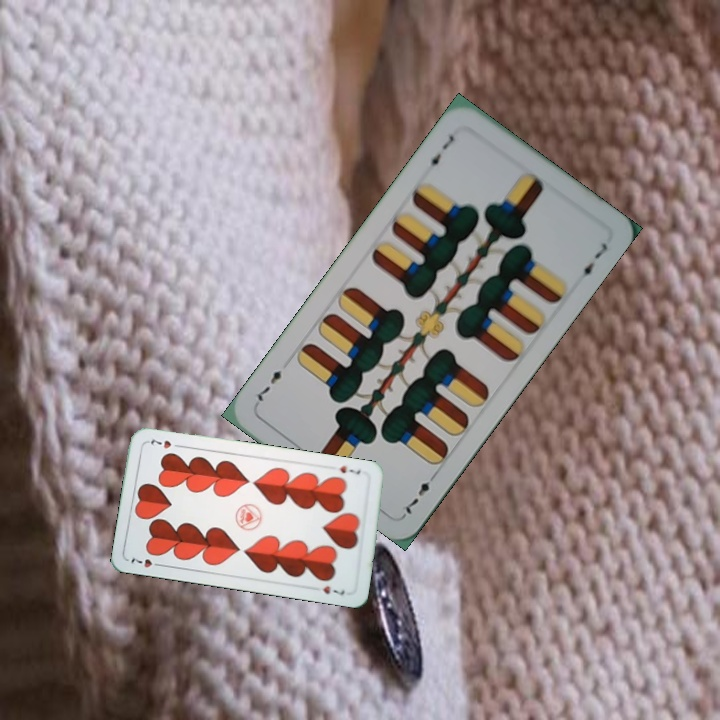E7: (399, 467, 438, 518), (421, 130, 457, 173)
H7: (127, 554, 166, 570), (336, 462, 363, 477)
